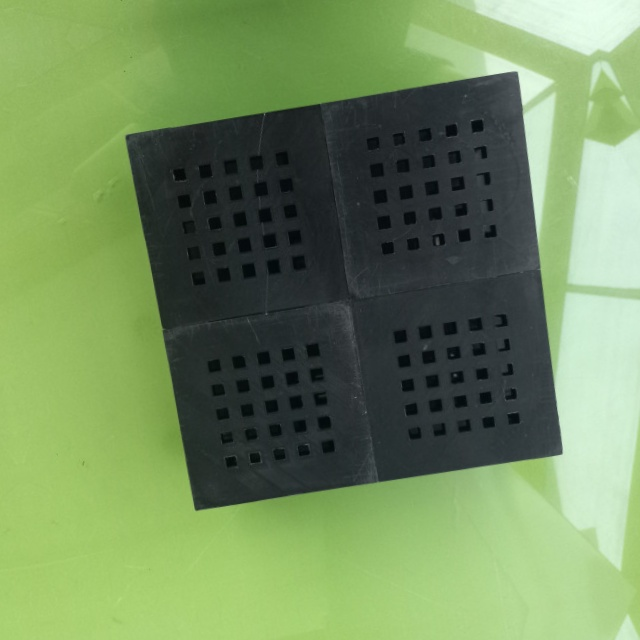pallet: (105, 64, 580, 515)
